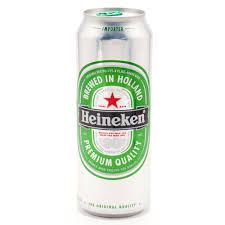beer: (69, 6, 154, 216)
